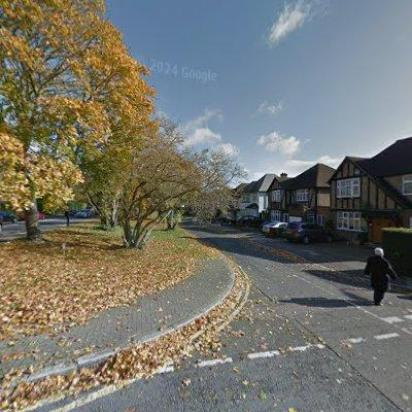stationary-car-offstreet: (283, 221, 333, 245), (15, 207, 47, 223), (261, 220, 289, 236), (236, 213, 260, 226), (75, 207, 93, 219)
